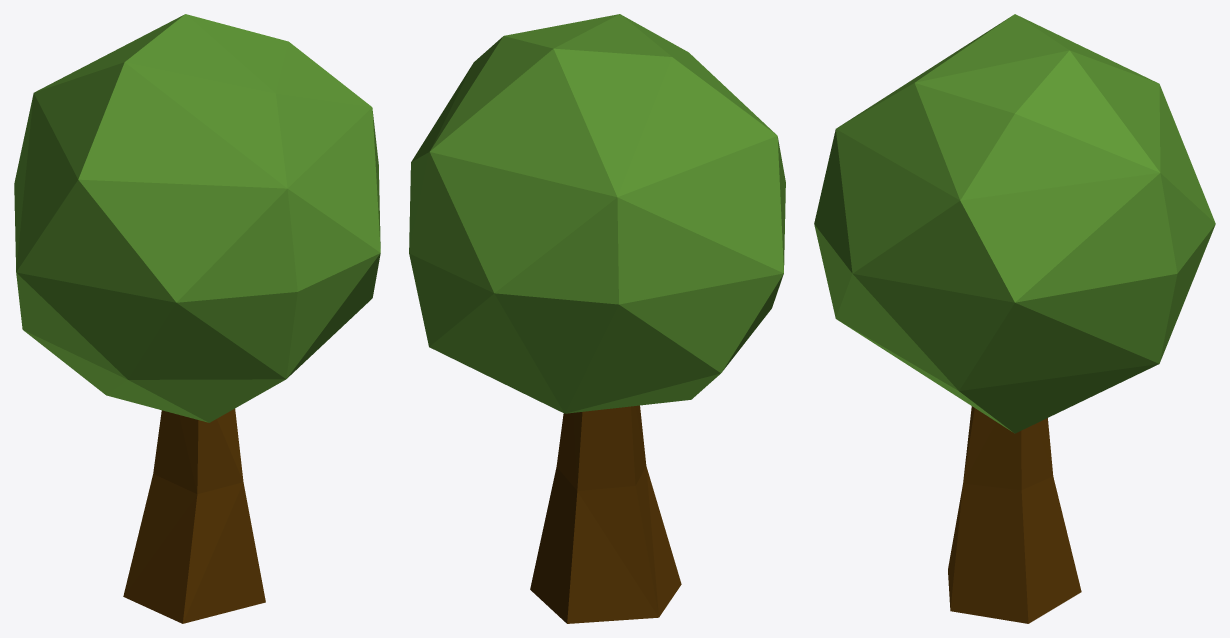
Rendered from tree_standard.fbx.
3 views of the same model, side by side, from view 1: azimuth 30°, elevation 25°; view 2: azimuth 150°, elevation 25°; view 3: azimuth 270°, elevation 25° (orthographic). The views are drawn at different scales.
Parts seen in each view (by area): view 1: Cylinder, Cylinder.001; view 2: Cylinder, Cylinder.001; view 3: Cylinder, Cylinder.001.
Boxes of the visible parts, x1,y1,x2,y2 form: Cylinder: (14, 14, 380, 422); Cylinder.001: (123, 408, 265, 623); Cylinder: (409, 14, 785, 413); Cylinder.001: (530, 405, 681, 623); Cylinder: (814, 14, 1215, 433); Cylinder.001: (948, 406, 1081, 623).
Bounding box in the file's own units: 564 × 820 × 540.
